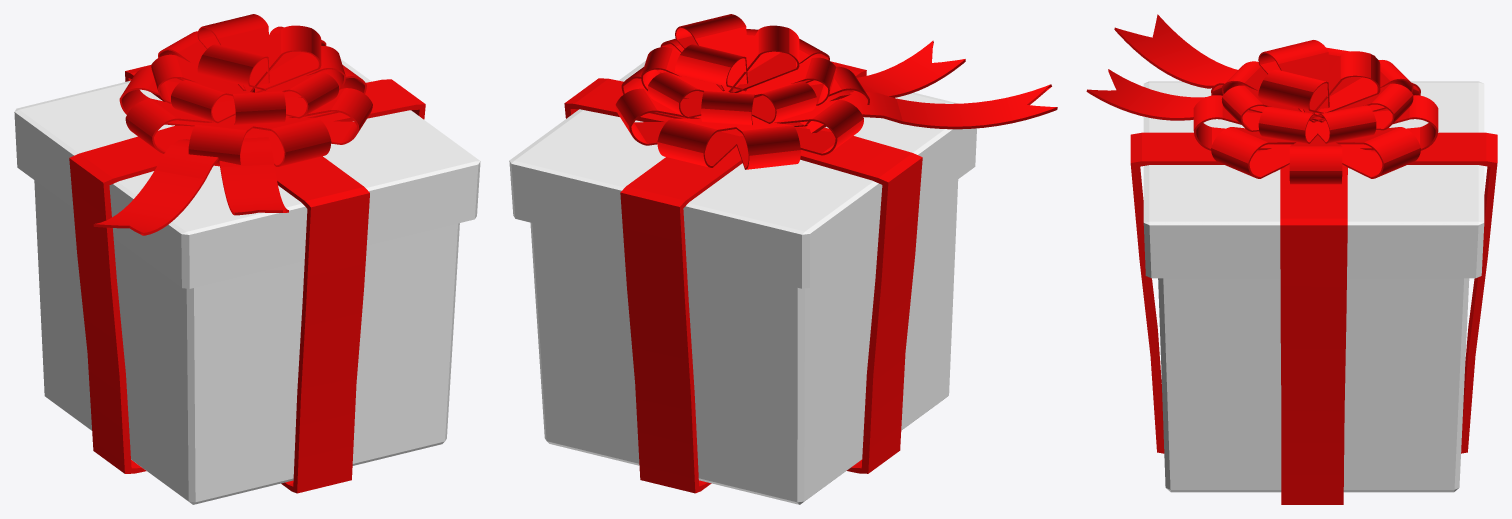
Rendered from PowerupBox01.FBX.
3 renders of one model, left to right at view 1: azimuth 30°, elevation 25°; view 2: azimuth 150°, elevation 25°; view 3: azimuth 270°, elevation 25°, orthographic.
Parts seen in each view (by area): view 1: Box001; view 2: Box001; view 3: Box001.
Boxes of the visible parts, x1=… form: Box001: x1=14, y1=14, x2=480, y2=504; Box001: x1=509, y1=14, x2=1057, y2=504; Box001: x1=1086, y1=14, x2=1497, y2=504.
Size of the model in its own units: 15.34 by 14.58 by 14.05.
